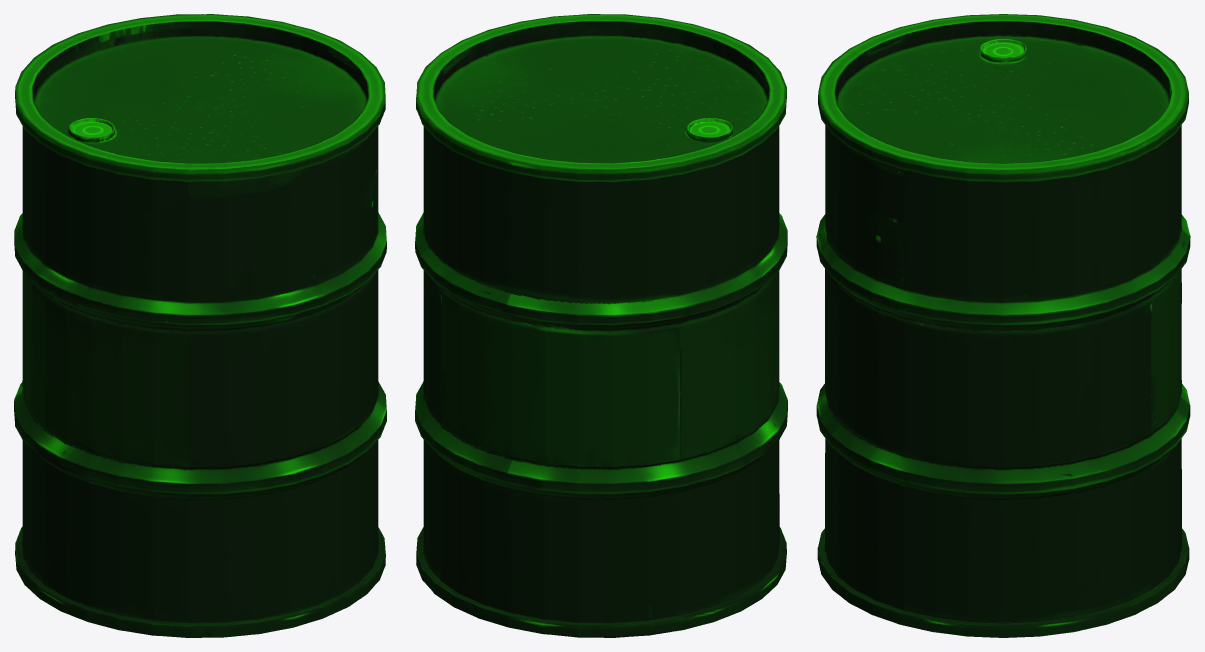
File: toxic.glb
3 views of the same model, side by side, from view 1: azimuth 30°, elevation 25°; view 2: azimuth 150°, elevation 25°; view 3: azimuth 270°, elevation 25° (orthographic).
Parts seen in each view (by area): view 1: model; view 2: model; view 3: model.
Part boxes in pixels (left/top/right/bottom): model: left=14, top=14, right=386, bottom=637; model: left=415, top=14, right=787, bottom=637; model: left=816, top=14, right=1190, bottom=637.
Size of the model in its own units: 1.38 by 1.9 by 1.38.
1 material, 1 textured.
